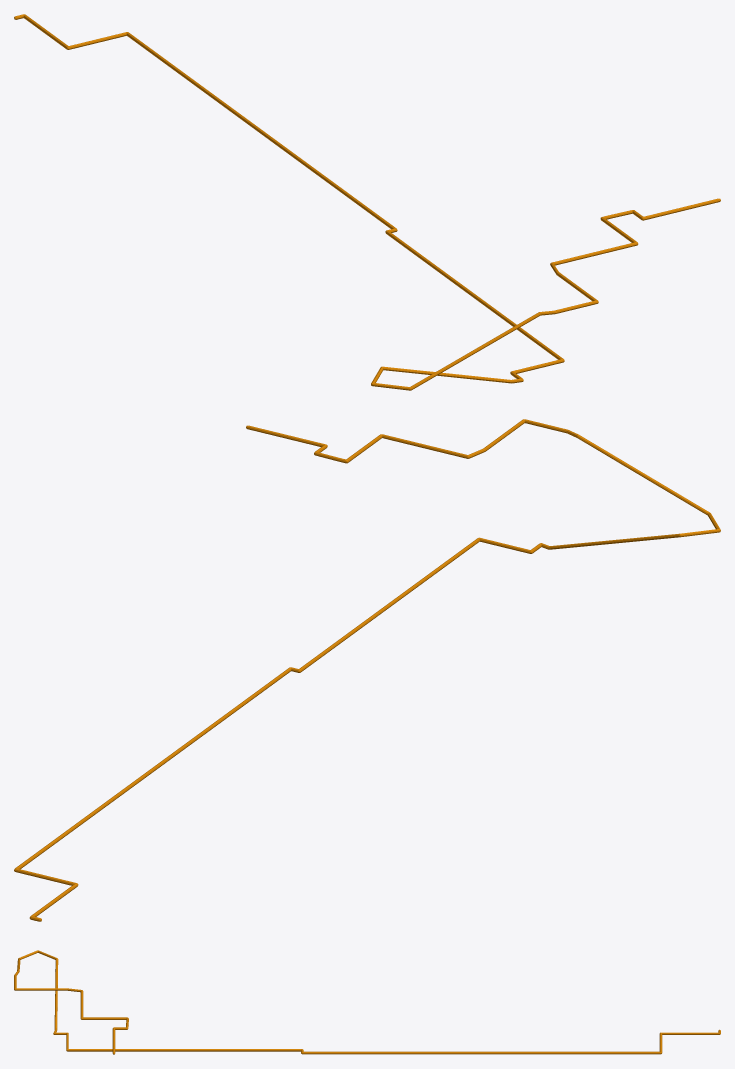
3 renders of one model, top to bottom at view 1: azimuth 30°, elevation 25°; view 2: azimuth 150°, elevation 25°; view 3: azimuth 270°, elevation 25°, orthographic. The views are drawn at different scales.
Bounding box in the file's own units: 2406 × 520 × 5420.
